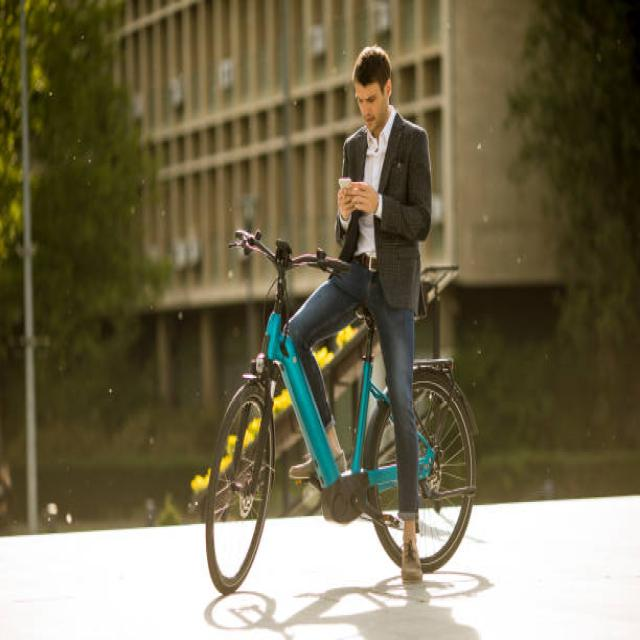bicycle: (205, 47, 475, 593)
